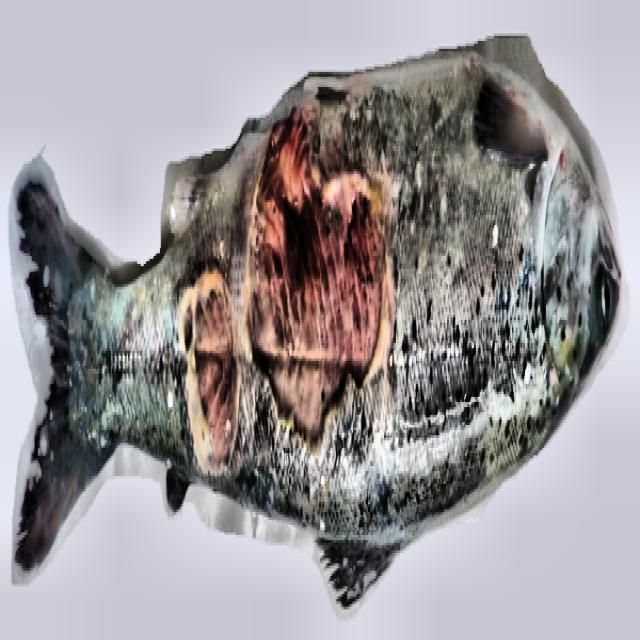mild_red: (71, 56, 577, 604)
wound: (179, 110, 389, 468)
